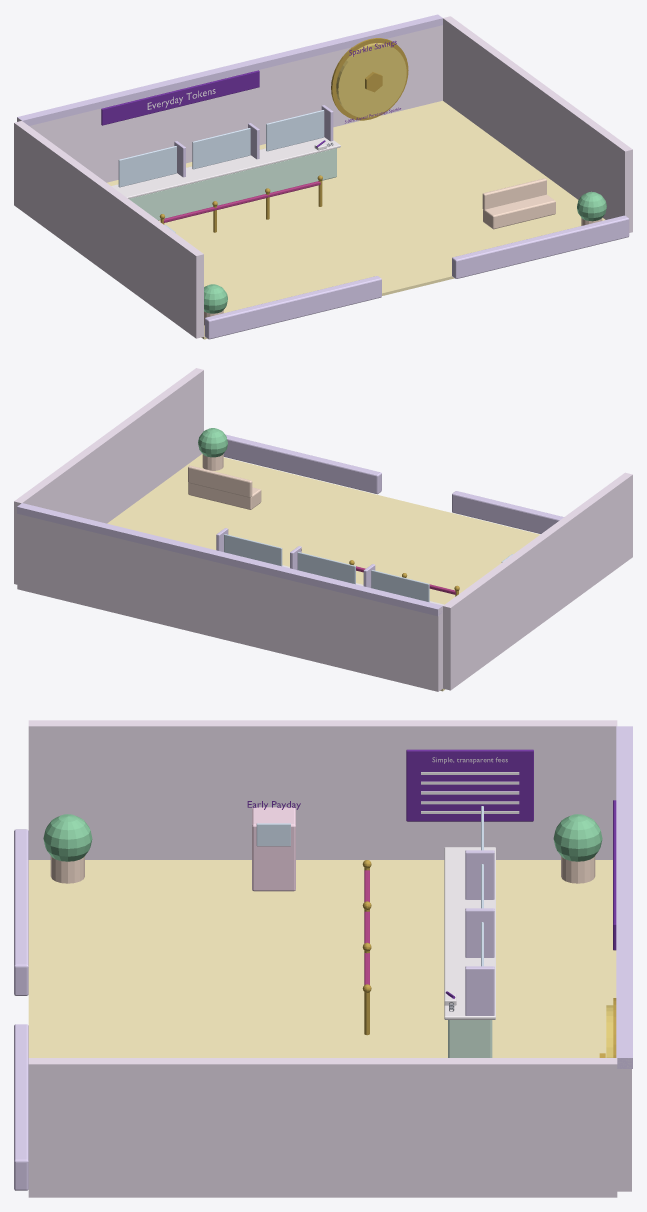
3 views of the same model, one above another, from view 1: azimuth 30°, elevation 25°; view 2: azimuth 150°, elevation 25°; view 3: azimuth 270°, elevation 25° (orthographic). The views are drawn at different scales.
Visible parts, largest first — view 1: floor, wall.back, wall.left, wall.right, blocker.counter, trim.back, wall.front.left, wall.front.right, vault.door, counter.top, sign.counter, counter.window.2 (+8 smaller); view 2: wall.back, floor, wall.left, wall.right, trim.back, wall.front.right, wall.front.left, bench.back, counter.window.2, counter.window.0, counter.window.1, blocker.bench (+1 smaller); view 3: floor, wall.right, wall.left, fees.board, trim.back, counter.top, blocker.kiosk, wall.front.left, wall.front.right, wall.back, plant.0, plant.2 (+7 smaller).
Boxes of the visible parts, x1,y1,x2,y2 form: floor: (107, 100, 605, 339); wall.back: (17, 25, 442, 182); wall.left: (14, 121, 203, 338); wall.right: (443, 16, 632, 232); blocker.counter: (129, 148, 336, 220); trim.back: (17, 14, 442, 125); wall.front.left: (204, 276, 381, 339); wall.front.right: (452, 215, 629, 278); vault.door: (336, 43, 406, 117); counter.top: (111, 137, 340, 198); sign.counter: (101, 70, 259, 125); counter.window.2: (266, 110, 324, 151); wall.back: (17, 514, 442, 691); floor: (107, 454, 539, 691); wall.left: (443, 472, 632, 690); wall.right: (14, 368, 203, 584); trim.back: (17, 503, 442, 616); wall.front.right: (223, 434, 381, 494); wall.front.left: (452, 491, 563, 533); bench.back: (188, 465, 252, 497); counter.window.2: (224, 534, 282, 566); counter.window.0: (371, 570, 429, 602); counter.window.1: (297, 552, 355, 584); blocker.bench: (188, 483, 261, 509); floor: (28, 860, 616, 1057); wall.right: (28, 1058, 617, 1197); wall.left: (28, 720, 617, 859); fees.board: (406, 749, 533, 821); trim.back: (616, 726, 632, 1068); counter.top: (444, 847, 495, 1019); blocker.kiosk: (252, 807, 295, 891); wall.front.left: (14, 829, 28, 995); wall.front.right: (14, 1024, 28, 1190); wall.back: (617, 1058, 631, 1191); plant.0: (553, 814, 602, 861); plant.2: (43, 814, 92, 861).
Bounding box in the file's own units: 16.6 × 3.11 × 12.62.
